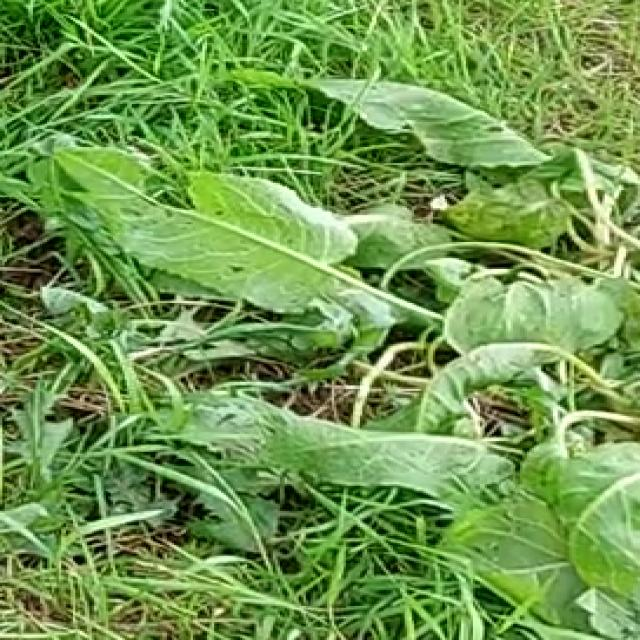organic waste: (61, 88, 640, 620)
